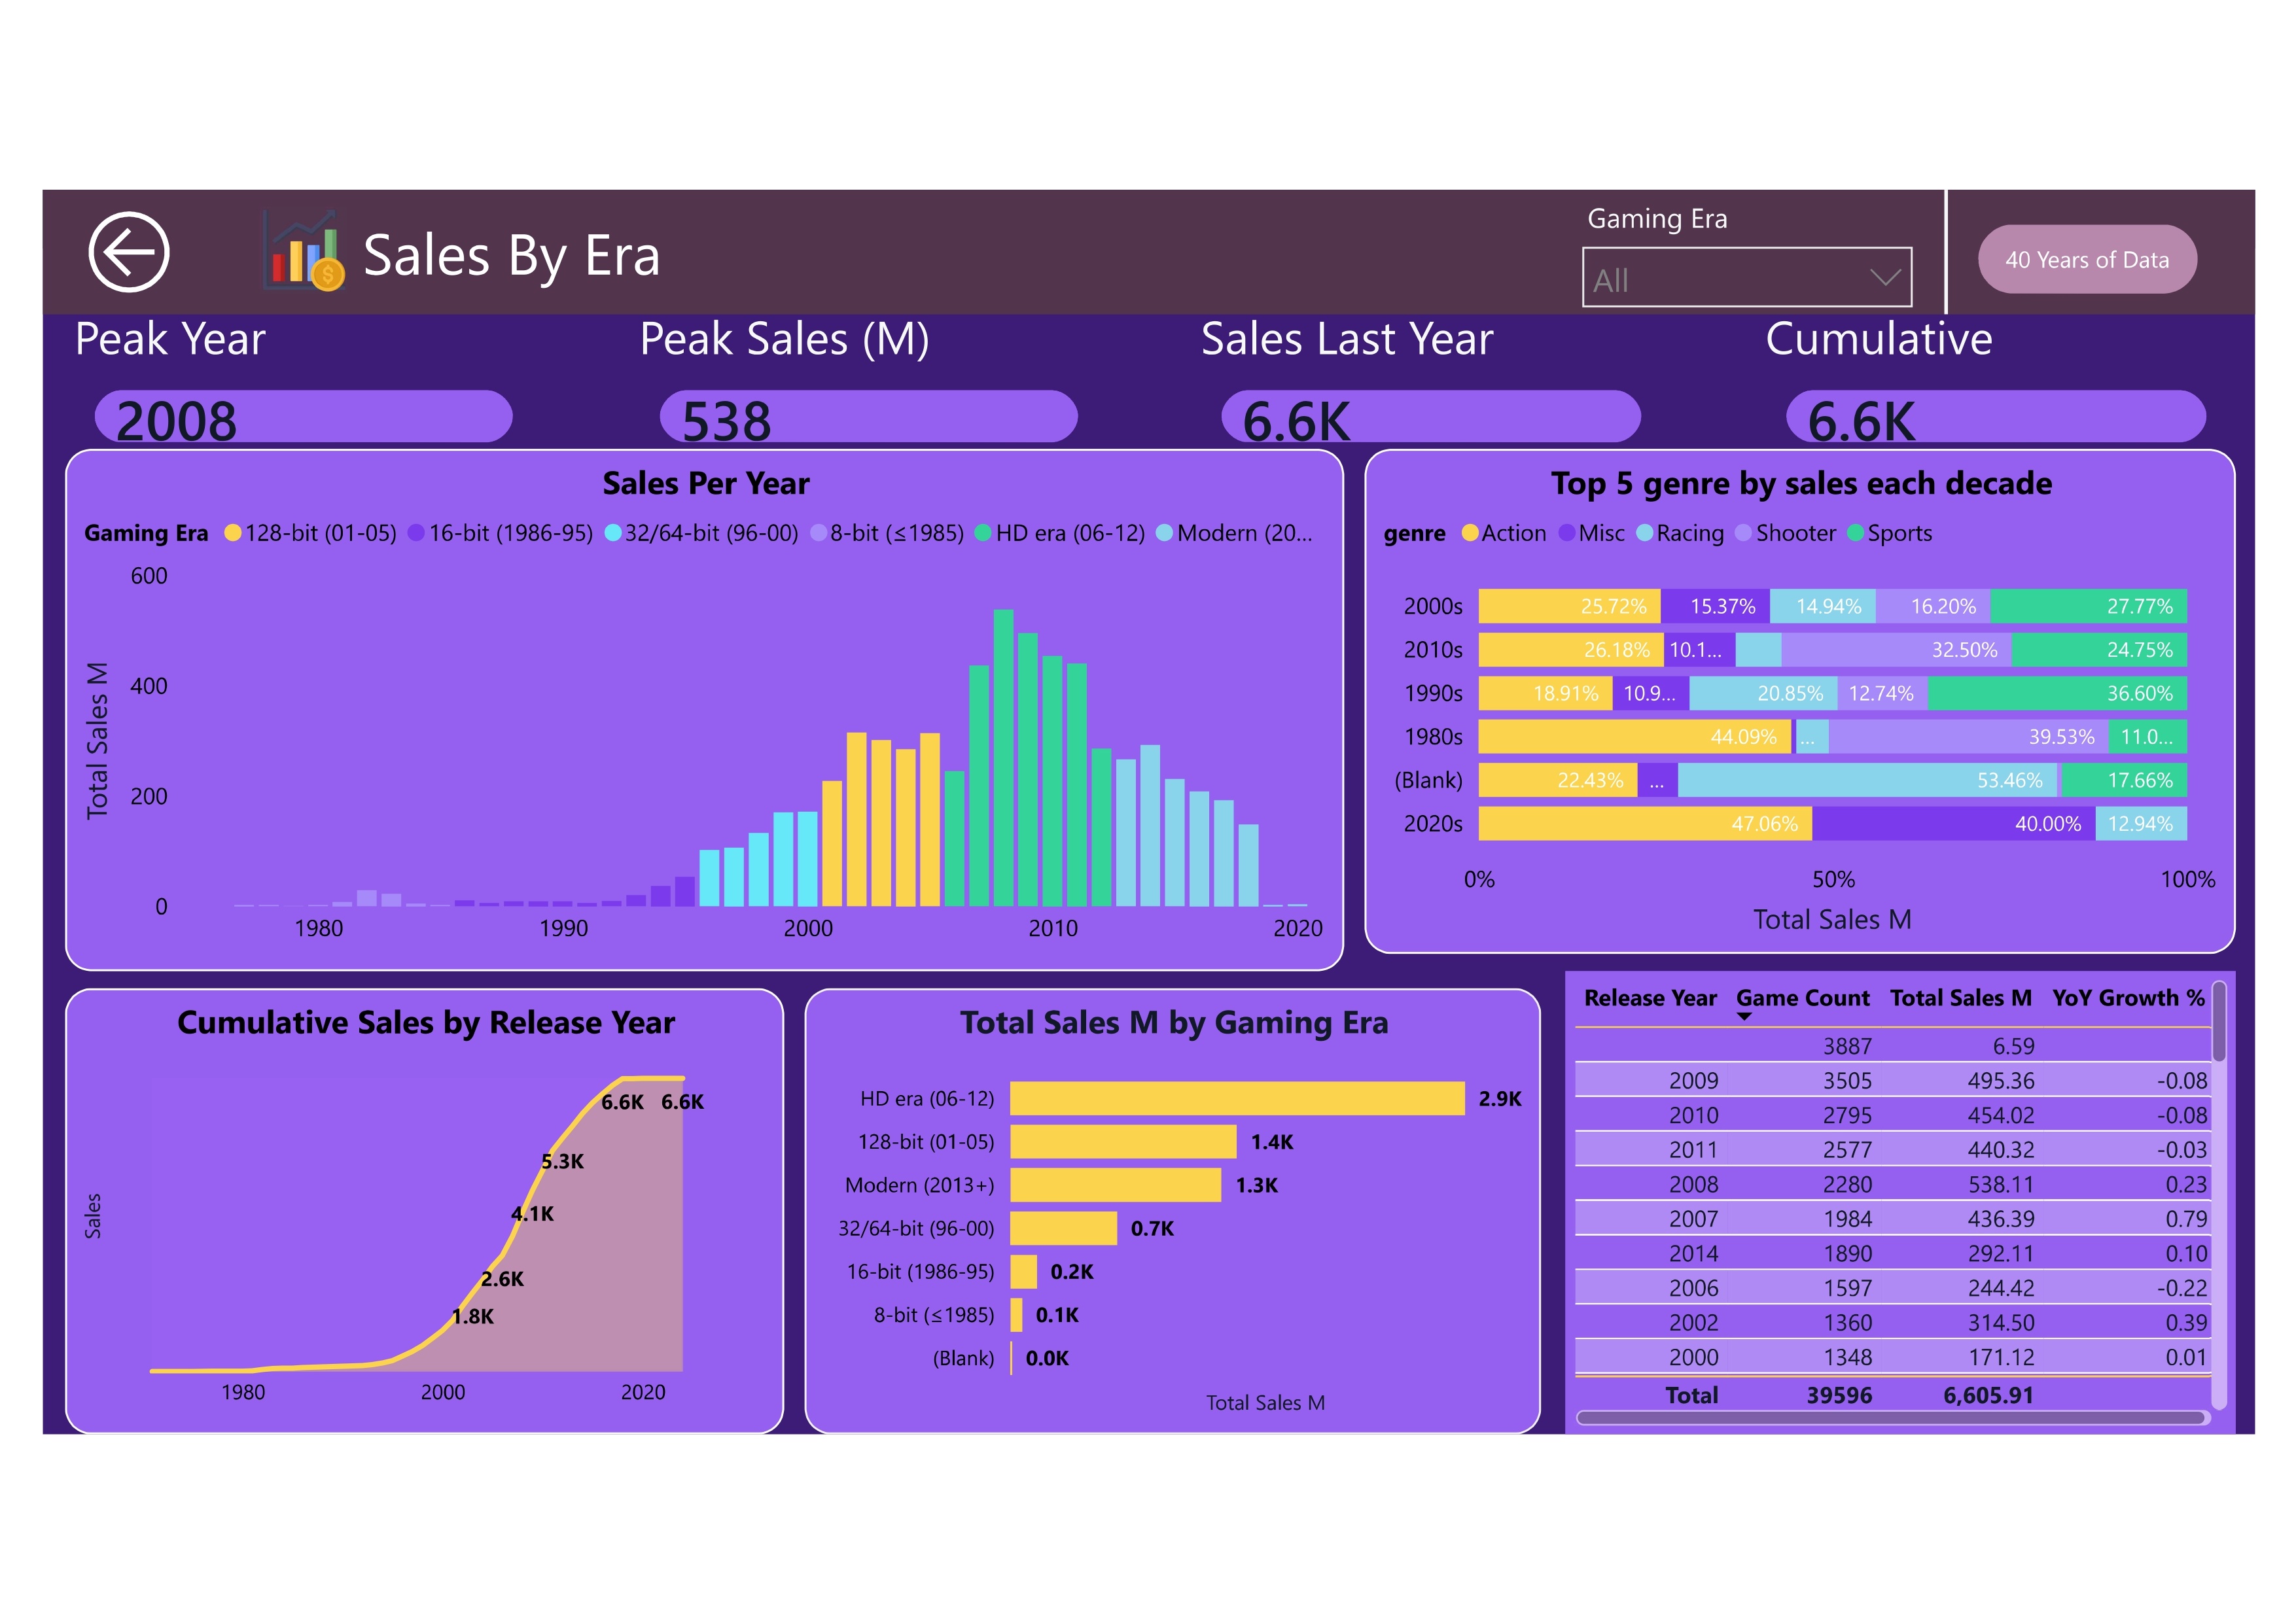

The page's visual inventory and layout, read from the dashboard file:
{"tool":"powerbi","page":{"name":"Sales By Era","canvas":[1280,720],"ordinal":2},"visuals":[{"type":"shape","box":[0,0,1280,72],"z":0},{"type":"shape","box":[185,10.1,205.9,50.4],"z":1000},{"type":"image","box":[115,10.1,72,50.4],"z":2000},{"type":"slicer","fields":{"Values":["Games.Gaming Era"]},"box":[881.3,0,210.2,72],"z":3000},{"type":"shape","box":[1072.8,0,57.6,72],"z":4000},{"type":"shape","title":"40 Years of Data ","box":[1120.3,20.2,126.7,40.3],"z":5000},{"type":"cardVisual","title":"Peak Year","fields":{"Data":["Text Card.Best Year"]},"box":[13,66.2,276.5,96.5],"z":6000},{"type":"cardVisual","title":"Peak Sales (M)","fields":{"Data":["Time intel.Peak Year Sales"]},"box":[339.8,66.2,276.5,96.5],"z":7000},{"type":"cardVisual","title":"Sales Last Year","fields":{"Data":["Time intel.Sales LY"]},"box":[665.3,66.2,276.5,96.5],"z":8000},{"type":"cardVisual","title":"Cumulative","fields":{"Data":["Time intel.Cumulative Sales"]},"box":[992.2,66.2,276.5,96.5],"z":9000},{"type":"columnChart","title":"Sales Per Year","fields":{"Category":["Games.Release Year"],"Y":["_Measure.Total Sales M"],"Series":["Games.Gaming Era"]},"box":[13,149.8,740.2,302.4],"z":10000},{"type":"hundredPercentStackedBarChart","title":"Top 5 genre by sales each decade","fields":{"Category":["Games.Release Decade"],"Y":["_Measure.Total Sales M"],"Series":["Games.genre"]},"box":[764.6,149.8,504,292.3],"z":11000},{"type":"actionButton","box":[20.2,5.8,79.2,60.5],"z":12000},{"type":"stackedAreaChart","fields":{"Category":["Games.Release Year"],"Y":["Time intel.Cumulative Sales"]},"box":[13,462.2,416.2,257.8],"z":13000},{"type":"barChart","fields":{"Category":["Games.Gaming Era"],"Y":["_Measure.Total Sales M"]},"box":[440.6,462.2,426.2,257.8],"z":14000},{"type":"tableEx","fields":{"Values":["Games.Release Year","_Measure.Game Count","_Measure.Total Sales M","Time intel.YoY_Growth %"]},"box":[881.3,452.2,387.4,267.8],"z":15000}]}

Visuals, with their boxes on the page's 1280x720 design canvas (x1, y1, x2, y2). These are canvas units, not pixel positions in the 2296x1623 screenshot, which may show the page scaled, cropped or inside an application window:
shape: <bbox>0, 0, 1280, 72</bbox>
shape: <bbox>185, 10, 391, 60</bbox>
image: <bbox>115, 10, 187, 60</bbox>
slicer - Games.Gaming Era: <bbox>881, 0, 1092, 72</bbox>
shape: <bbox>1073, 0, 1130, 72</bbox>
"40 Years of Data " shape: <bbox>1120, 20, 1247, 60</bbox>
"Peak Year" cardVisual: <bbox>13, 66, 290, 163</bbox>
"Peak Sales (M)" cardVisual: <bbox>340, 66, 616, 163</bbox>
"Sales Last Year" cardVisual: <bbox>665, 66, 942, 163</bbox>
"Cumulative" cardVisual: <bbox>992, 66, 1269, 163</bbox>
"Sales Per Year" columnChart: <bbox>13, 150, 753, 452</bbox>
"Top 5 genre by sales each decade" hundredPercentStackedBarChart: <bbox>765, 150, 1269, 442</bbox>
actionButton: <bbox>20, 6, 99, 66</bbox>
stackedAreaChart - Games.Release Year x Time intel.Cumulative Sales: <bbox>13, 462, 429, 720</bbox>
barChart - Games.Gaming Era x _Measure.Total Sales M: <bbox>441, 462, 867, 720</bbox>
tableEx - Games.Release Year x _Measure.Game Count: <bbox>881, 452, 1269, 720</bbox>
